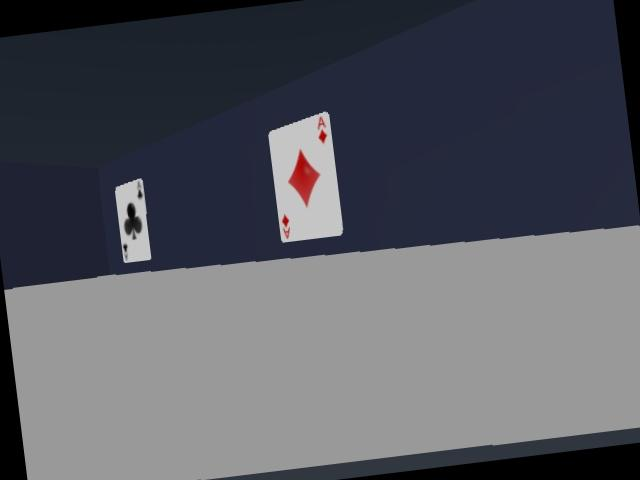club: (115, 179, 150, 262)
diamond: (268, 112, 342, 241)
